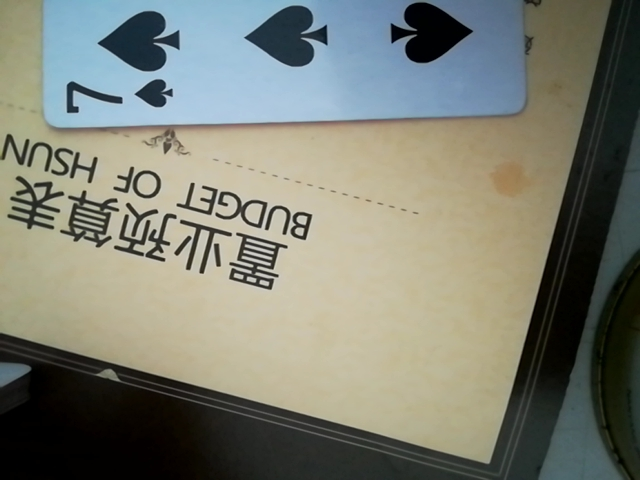ht 7: (22, 0, 535, 130)
